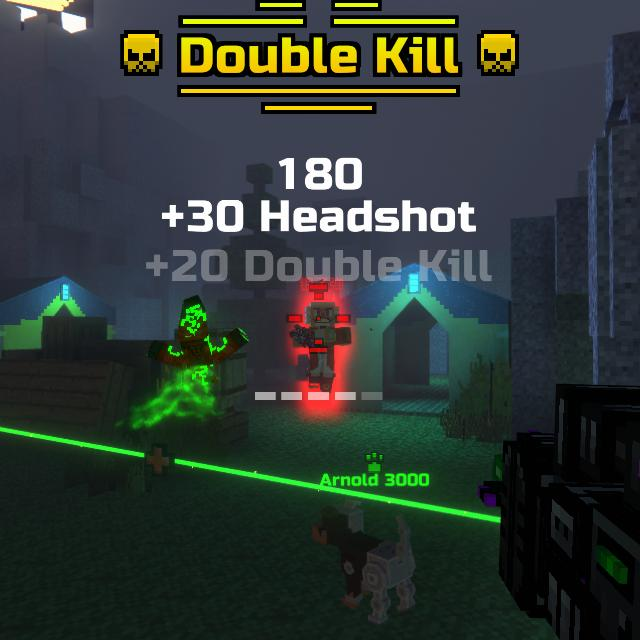Enemy: (293, 303, 354, 396)
